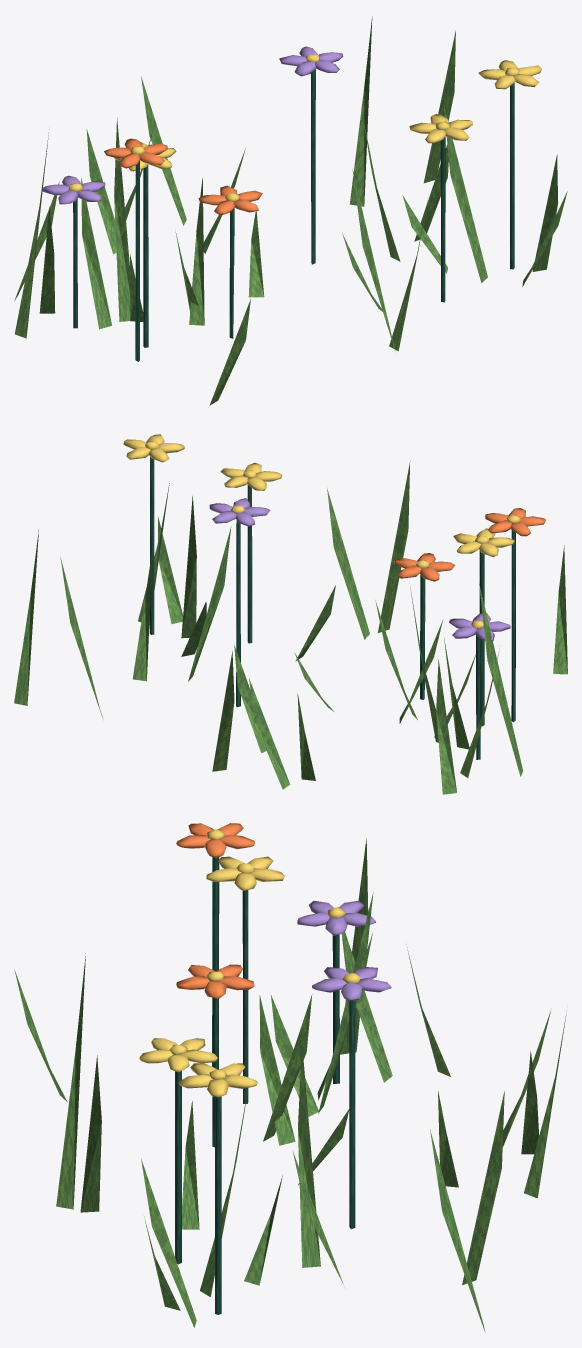
The model's file is flowers.glb.
The picture shows the model from 3 angles, top to bottom: view 1: azimuth 30°, elevation 25°; view 2: azimuth 150°, elevation 25°; view 3: azimuth 270°, elevation 25°; orthographic projection. The views are drawn at different scales.
Visible parts, largest first — view 1: flowers; view 2: flowers; view 3: flowers.
Part boxes in pixels (x1,y1,x2,y2): flowers: (14, 16, 567, 405); flowers: (14, 434, 567, 794); flowers: (14, 823, 566, 1332).
Size of the model in its own units: 0.8471 by 0.3642 by 0.7035.
Materials: 1 (1 with a texture image).
